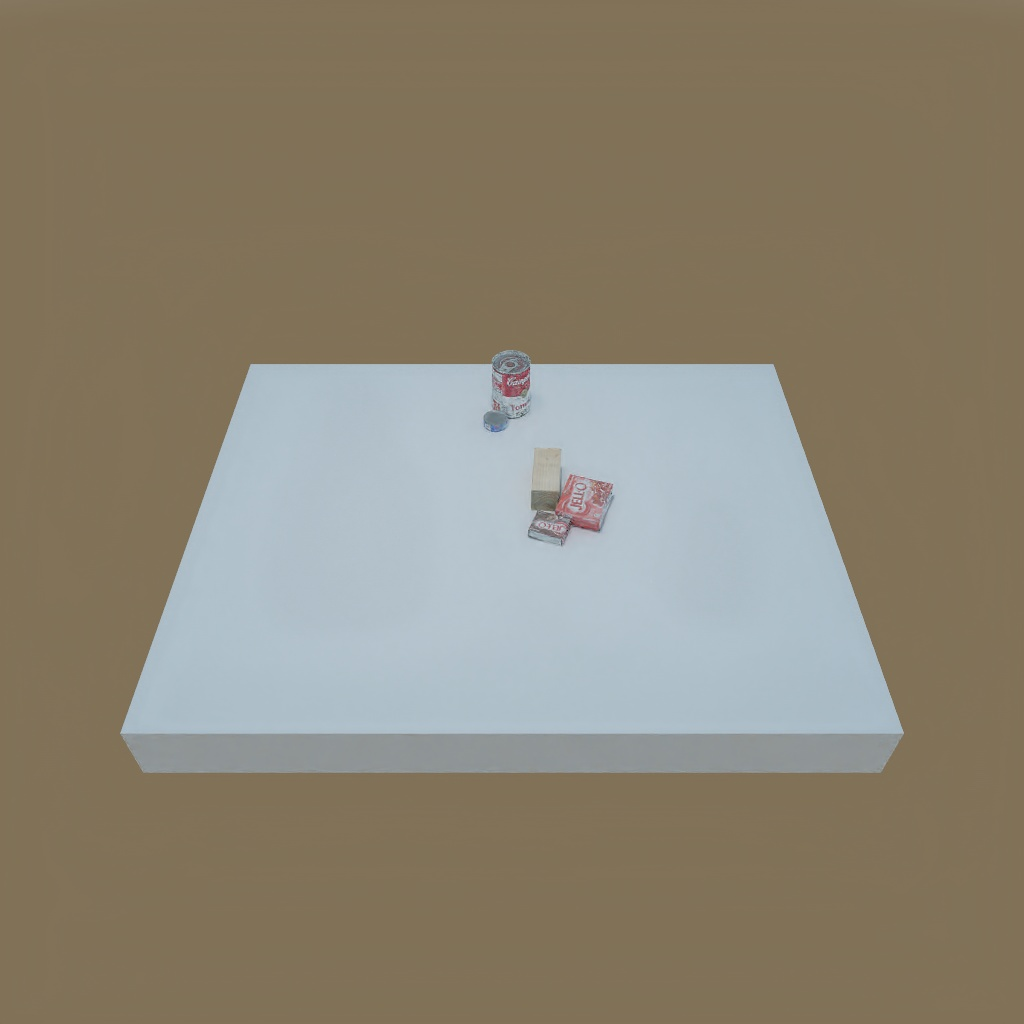gelatin_box: (549, 475, 614, 530)
pudding_box: (526, 506, 572, 546)
tomato_soup_can: (487, 349, 534, 420)
wood_block: (523, 446, 566, 509)
